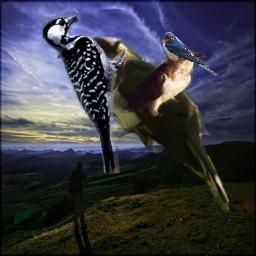Cuckoo: (53, 37, 229, 212), (114, 49, 207, 117)
Swallow: (162, 32, 218, 76)
Woodpecker: (41, 11, 125, 173)
